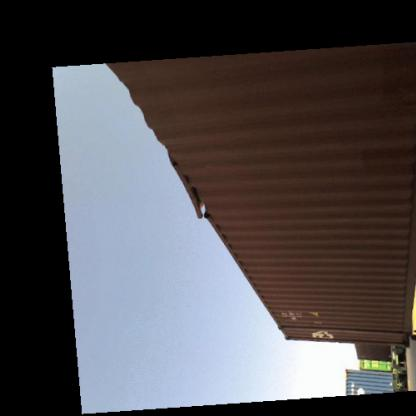Damage: (158, 134, 210, 226), (268, 317, 404, 349), (342, 120, 376, 182)
